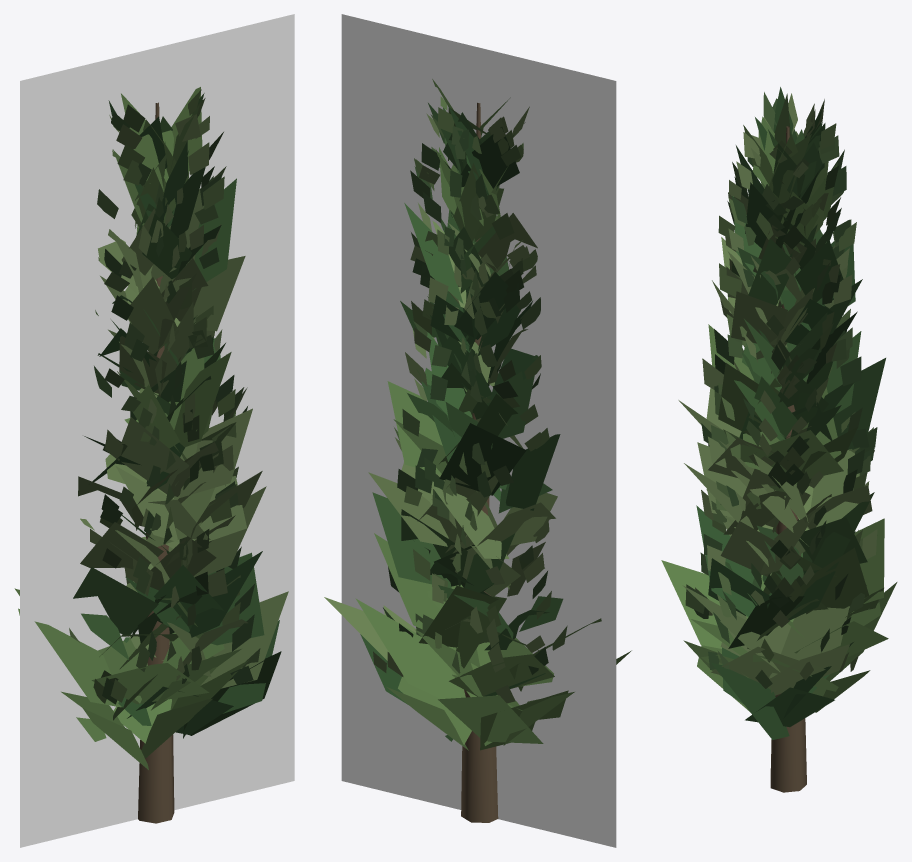
The model's file is cypress.glb.
3 views of the same model, side by side, from view 1: azimuth 30°, elevation 25°; view 2: azimuth 150°, elevation 25°; view 3: azimuth 270°, elevation 25° (orthographic). The views are drawn at different scales.
Visible parts, largest first — view 1: veg_cypress_billboard, veg_cypress_lod0; view 2: veg_cypress_billboard, veg_cypress_lod0; view 3: veg_cypress_lod0.
Part boxes in pixels (bbox=[...]): veg_cypress_billboard: bbox=[20, 14, 294, 847]; veg_cypress_lod0: bbox=[14, 87, 288, 823]; veg_cypress_billboard: bbox=[341, 14, 616, 847]; veg_cypress_lod0: bbox=[324, 79, 631, 822]; veg_cypress_lod0: bbox=[661, 87, 897, 792].
Size of what is drawn, in the model's own units: 3.06 by 8.15 by 2.46.
